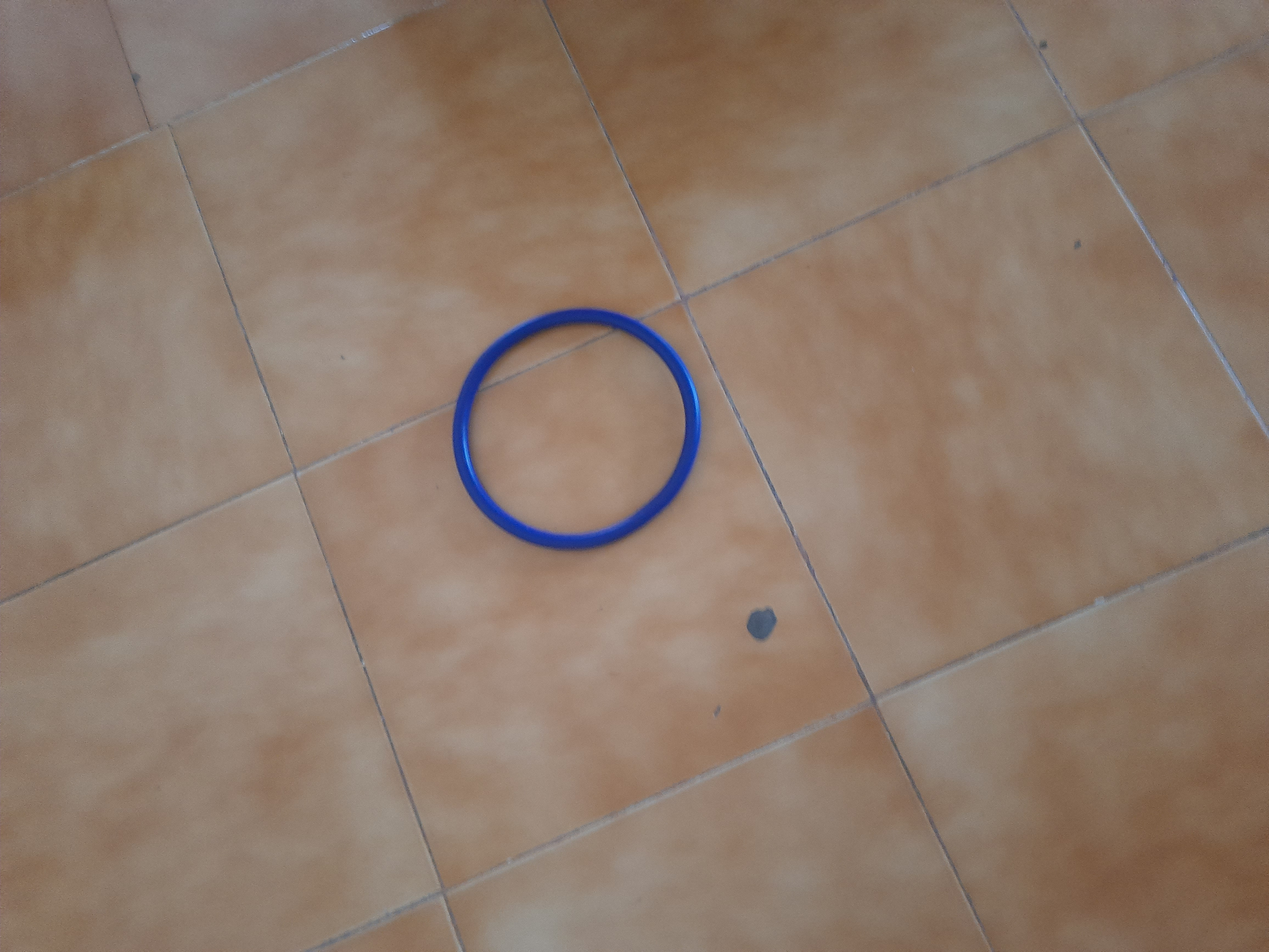Blue ring: (450, 305, 702, 551)
